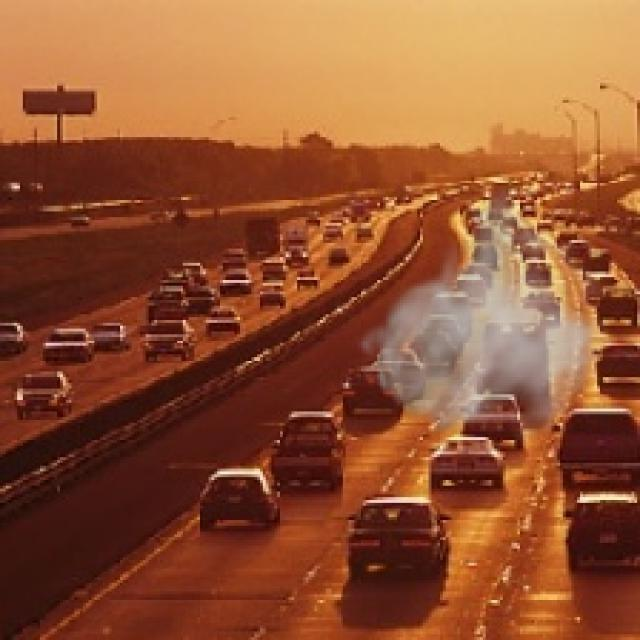Smoke: (354, 180, 612, 457)
